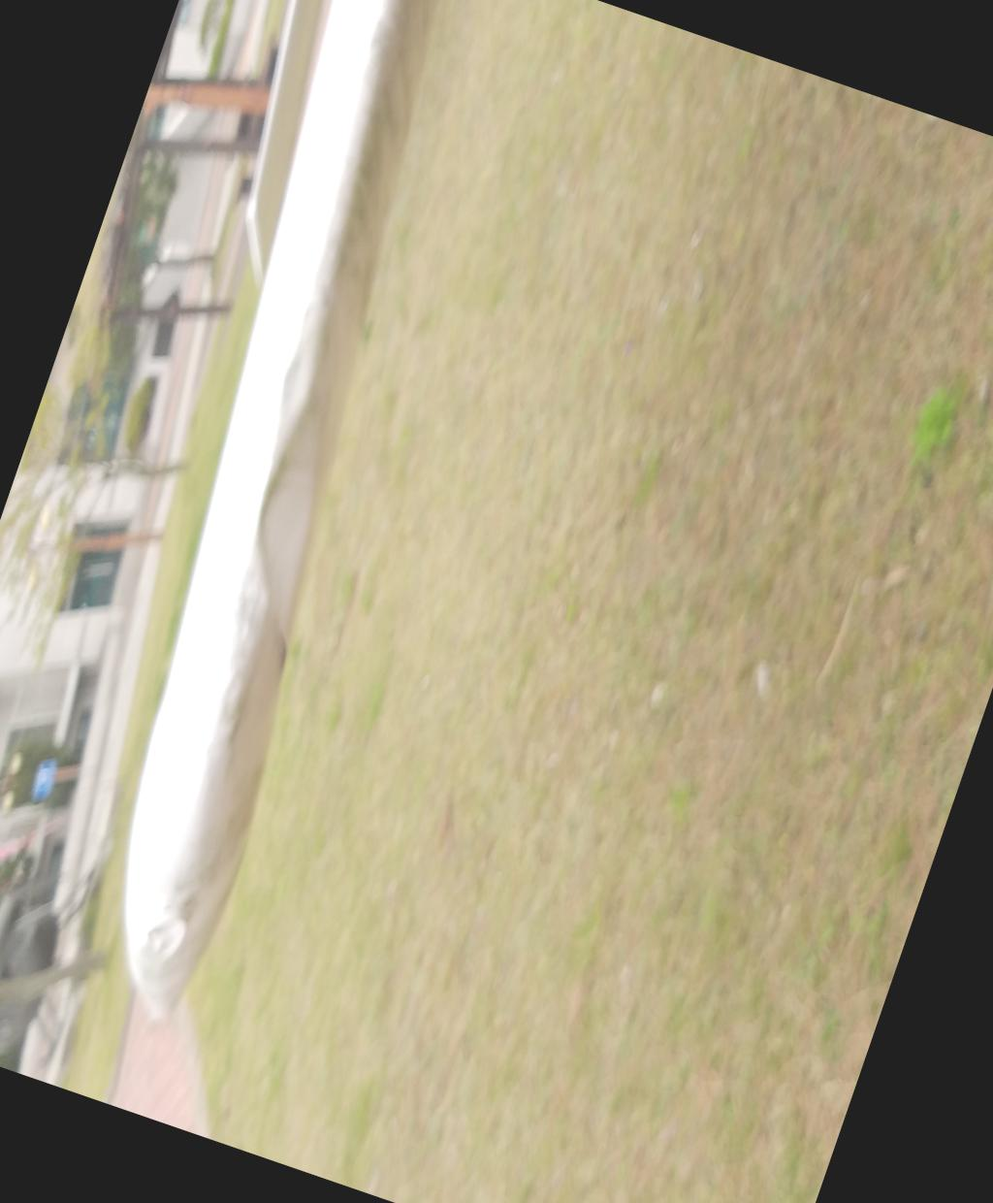dent: (132, 517, 320, 733), (103, 618, 175, 716)
